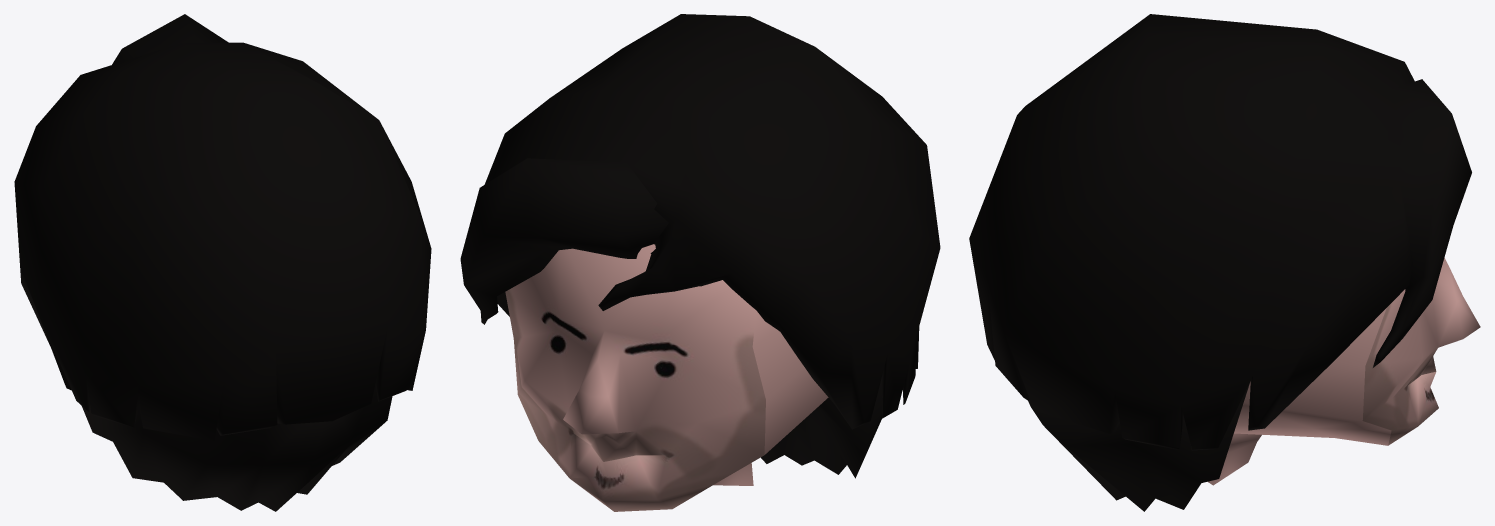
File: PatrickHeadImport.fbx
3 views of the same model, side by side, from view 1: azimuth 30°, elevation 25°; view 2: azimuth 150°, elevation 25°; view 3: azimuth 270°, elevation 25° (orthographic). The views are drawn at different scales.
Parts seen in each view (by area): view 1: Mesh_002; view 2: Mesh_002, Head; view 3: Mesh_002, Head.
Boxes of the visible parts, box(x1,y1,x2,y2) form: Mesh_002: box(14, 14, 431, 511); Mesh_002: box(460, 14, 940, 478); Head: box(505, 244, 828, 511); Mesh_002: box(969, 14, 1471, 511); Head: box(1207, 257, 1480, 485).
Size of the model in its own units: 98.72 by 113 by 115.
Materials: 2 (1 with a texture image).
